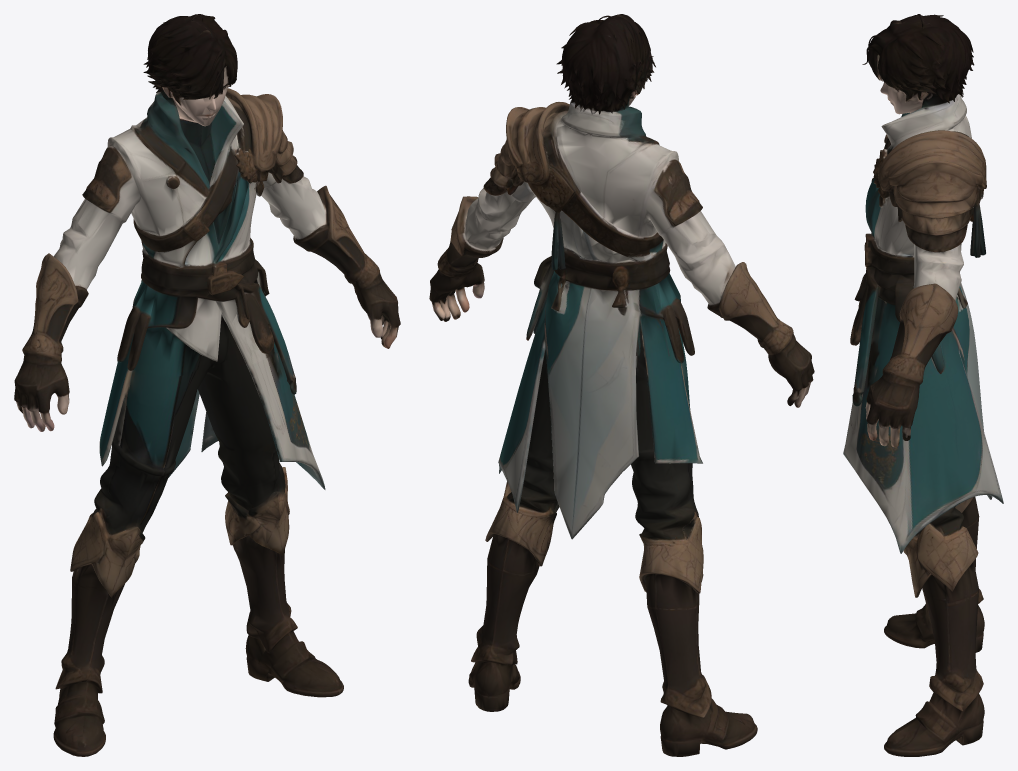
File: swordmaster.glb
3 renders of one model, left to right at view 1: azimuth 30°, elevation 25°; view 2: azimuth 150°, elevation 25°; view 3: azimuth 270°, elevation 25°, orthographic. The views are drawn at different scales.
Parts seen in each view (by area): view 1: material; view 2: material; view 3: material.
Part boxes in pixels (bbox=[...]): material: bbox=[14, 14, 400, 756]; material: bbox=[429, 14, 814, 756]; material: bbox=[843, 14, 1003, 756].
Bounding box in the file's own units: 0.9876 × 1.76 × 0.3772.
Materials: 1 (1 with a texture image).
